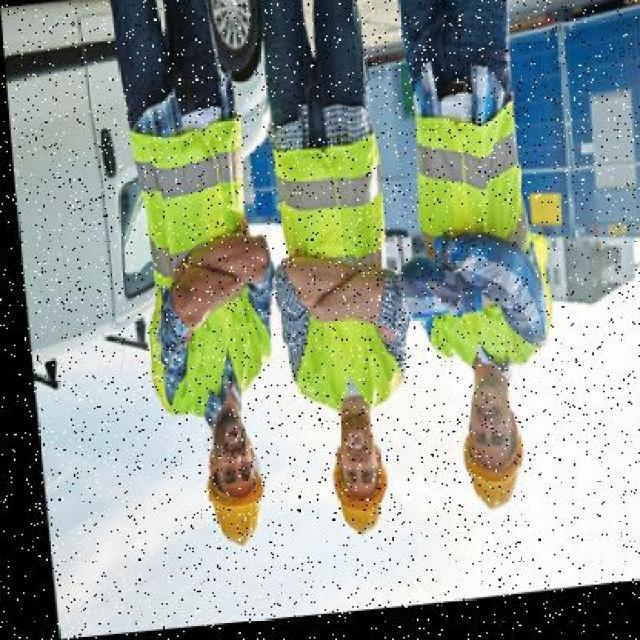helmet: (194, 479, 258, 553), (449, 460, 517, 517), (322, 483, 382, 546)
vest: (394, 90, 544, 389), (125, 114, 264, 420), (262, 134, 397, 423)
